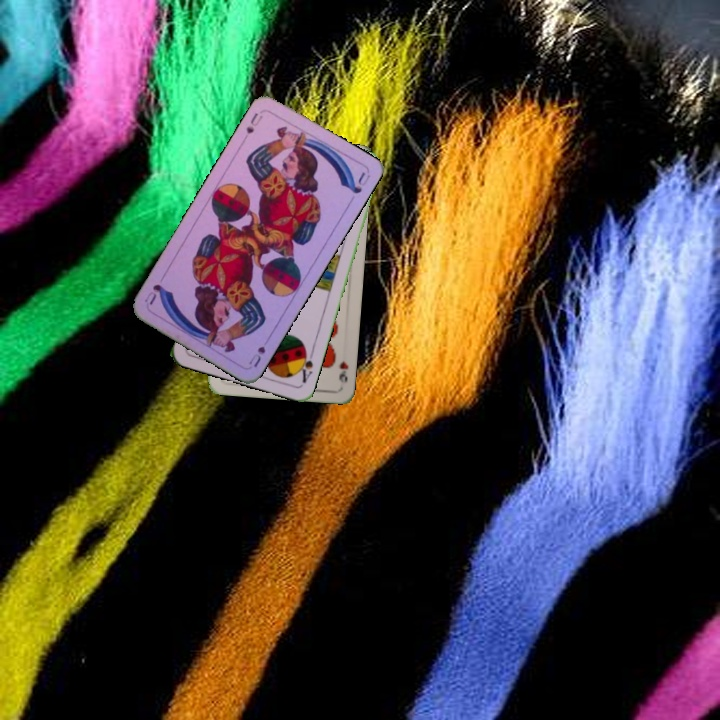H9: (335, 357, 351, 385)
SA: (294, 344, 317, 386)
SU: (245, 332, 273, 370), (242, 108, 265, 136)
